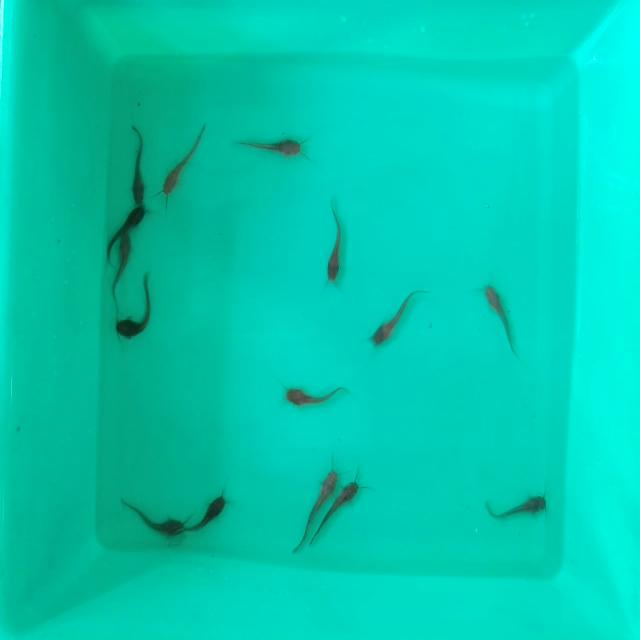lele: (162, 122, 207, 197), (298, 463, 338, 543), (368, 286, 419, 348), (480, 490, 548, 528), (117, 501, 186, 536), (485, 279, 517, 354), (322, 482, 366, 536), (125, 122, 153, 204), (115, 282, 153, 340), (286, 380, 351, 412), (185, 491, 228, 537), (104, 235, 136, 293), (324, 203, 346, 284), (104, 203, 152, 236), (238, 136, 304, 156)
